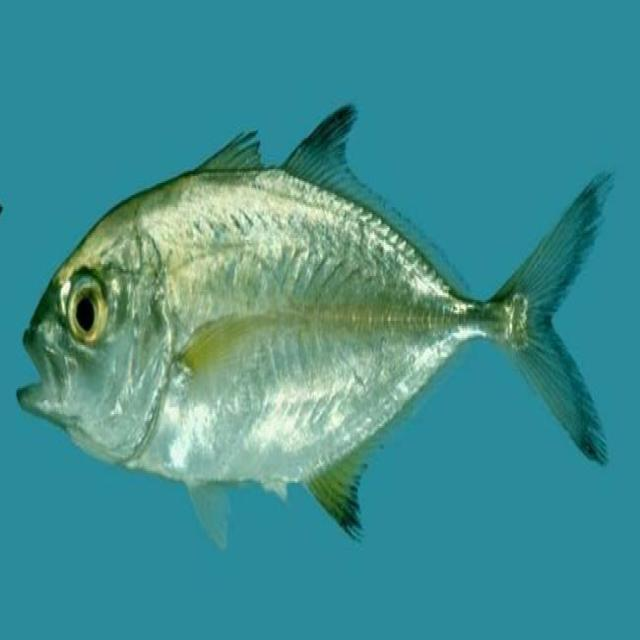ikan: (11, 71, 620, 578)
